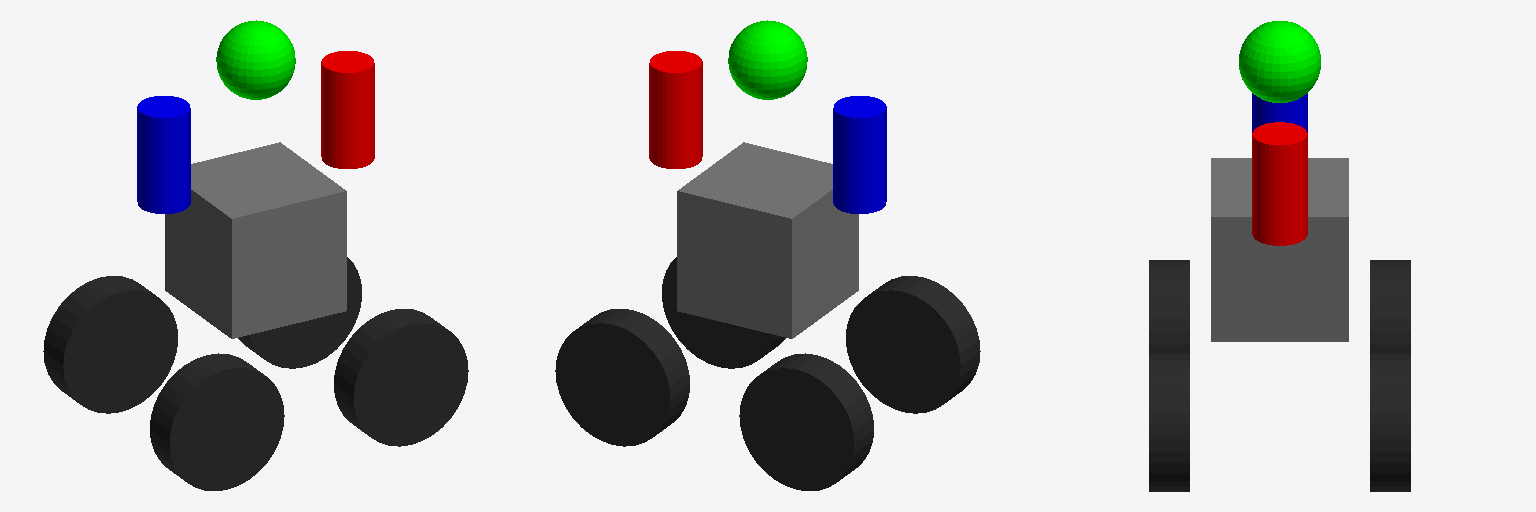
robot.urdf — jedy_robot:
<?xml version='1.0' encoding='UTF-8'?>
<robot name="jedy_robot">
  <link name="base_link">
    <inertial>
      <origin xyz="0 0 0.05" rpy="0 0 0"/>
      <mass value="1.0"/>
      <inertia ixx="0.01" ixy="0.0" ixz="0.0" iyy="0.01" iyz="0.0" izz="0.01"/>
    </inertial>
    <visual>
      <geometry>
        <box size="0.1 0.1 0.1"/>
      </geometry>
      <material name="grey">
        <color rgba="0.5 0.5 0.5 1"/>
      </material>
      <origin xyz="0.0 0.0 0.0" rpy="0 0 0"/>
    </visual>
    <collision>
      <geometry>
        <box size="0.1 0.1 0.1"/>
      </geometry>
      <origin xyz="0.0 0.0 0.0" rpy="0 0 0"/>
    </collision>
  </link>
  
  <link name="rarm_link0">
    <inertial>
      <origin xyz="0 0 0" rpy="0 0 0"/>
      <mass value="0.1"/>
      <inertia ixx="0.001" ixy="0.0" ixz="0.0" iyy="0.001" iyz="0.0" izz="0.001"/>
    </inertial>
    <visual>
      <geometry>
        <cylinder radius="0.02" length="0.08"/>
      </geometry>
      <material name="red">
        <color rgba="1 0 0 1"/>
      </material>
      <origin xyz="0 0 0.04" rpy="0 0 0"/>
    </visual>
    <collision>
      <geometry>
        <cylinder radius="0.02" length="0.08"/>
      </geometry>
      <origin xyz="0 0 0.04" rpy="0 0 0"/>
    </collision>
  </link>
  
  <link name="larm_link0">
    <inertial>
      <origin xyz="0 0 0" rpy="0 0 0"/>
      <mass value="0.1"/>
      <inertia ixx="0.001" ixy="0.0" ixz="0.0" iyy="0.001" iyz="0.0" izz="0.001"/>
    </inertial>
    <visual>
      <geometry>
        <cylinder radius="0.02" length="0.08"/>
      </geometry>
      <material name="blue">
        <color rgba="0 0 1 1"/>
      </material>
      <origin xyz="0 0 0.04" rpy="0 0 0"/>
    </visual>
    <collision>
      <geometry>
        <cylinder radius="0.02" length="0.08"/>
      </geometry>
      <origin xyz="0 0 0.04" rpy="0 0 0"/>
    </collision>
  </link>
  
  <link name="head_link0">
    <inertial>
      <origin xyz="0 0 0" rpy="0 0 0"/>
      <mass value="0.1"/>
      <inertia ixx="0.001" ixy="0.0" ixz="0.0" iyy="0.001" iyz="0.0" izz="0.001"/>
    </inertial>
    <visual>
      <geometry>
        <sphere radius="0.03"/>
      </geometry>
      <material name="green">
        <color rgba="0 1 0 1"/>
      </material>
      <origin xyz="0 0 0" rpy="0 0 0"/>
    </visual>
    <collision>
      <geometry>
        <sphere radius="0.03"/>
      </geometry>
      <origin xyz="0 0 0" rpy="0 0 0"/>
    </collision>
  </link>
  
  <!-- Mechanum wheels -->
  <link name="mechanum_link1">
    <inertial>
      <origin xyz="0 0 0" rpy="0 0 0"/>
      <mass value="0.2"/>
      <inertia ixx="0.001" ixy="0.0" ixz="0.0" iyy="0.001" iyz="0.0" izz="0.001"/>
    </inertial>
    <visual>
      <geometry>
        <cylinder radius="0.05" length="0.03"/>
      </geometry>
      <material name="black">
        <color rgba="0.2 0.2 0.2 1"/>
      </material>
      <origin xyz="0 0 0" rpy="1.5708 0 0"/>
    </visual>
    <collision>
      <geometry>
        <cylinder radius="0.05" length="0.03"/>
      </geometry>
      <origin xyz="0 0 0" rpy="1.5708 0 0"/>
    </collision>
  </link>
  
  <link name="mechanum_link2">
    <inertial>
      <origin xyz="0 0 0" rpy="0 0 0"/>
      <mass value="0.2"/>
      <inertia ixx="0.001" ixy="0.0" ixz="0.0" iyy="0.001" iyz="0.0" izz="0.001"/>
    </inertial>
    <visual>
      <geometry>
        <cylinder radius="0.05" length="0.03"/>
      </geometry>
      <material name="black">
        <color rgba="0.2 0.2 0.2 1"/>
      </material>
      <origin xyz="0 0 0" rpy="1.5708 0 0"/>
    </visual>
    <collision>
      <geometry>
        <cylinder radius="0.05" length="0.03"/>
      </geometry>
      <origin xyz="0 0 0" rpy="1.5708 0 0"/>
    </collision>
  </link>
  
  <link name="mechanum_link3">
    <inertial>
      <origin xyz="0 0 0" rpy="0 0 0"/>
      <mass value="0.2"/>
      <inertia ixx="0.001" ixy="0.0" ixz="0.0" iyy="0.001" iyz="0.0" izz="0.001"/>
    </inertial>
    <visual>
      <geometry>
        <cylinder radius="0.05" length="0.03"/>
      </geometry>
      <material name="black">
        <color rgba="0.2 0.2 0.2 1"/>
      </material>
      <origin xyz="0 0 0" rpy="1.5708 0 0"/>
    </visual>
    <collision>
      <geometry>
        <cylinder radius="0.05" length="0.03"/>
      </geometry>
      <origin xyz="0 0 0" rpy="1.5708 0 0"/>
    </collision>
  </link>
  
  <link name="mechanum_link4">
    <inertial>
      <origin xyz="0 0 0" rpy="0 0 0"/>
      <mass value="0.2"/>
      <inertia ixx="0.001" ixy="0.0" ixz="0.0" iyy="0.001" iyz="0.0" izz="0.001"/>
    </inertial>
    <visual>
      <geometry>
        <cylinder radius="0.05" length="0.03"/>
      </geometry>
      <material name="black">
        <color rgba="0.2 0.2 0.2 1"/>
      </material>
      <origin xyz="0 0 0" rpy="1.5708 0 0"/>
    </visual>
    <collision>
      <geometry>
        <cylinder radius="0.05" length="0.03"/>
      </geometry>
      <origin xyz="0 0 0" rpy="1.5708 0 0"/>
    </collision>
  </link>
  
  <!-- Joints -->
  <joint name="rarm_joint0" type="revolute">
    <limit effort="0.48" velocity="6.55" lower="-2.35" upper="2.35"/>
    <parent link="base_link"/>
    <child link="rarm_link0"/>
    <axis xyz="0 1 0"/>
    <origin xyz="0.08 0 0.05" rpy="0 0 0"/>
  </joint>
  
  <joint name="larm_joint0" type="revolute">
    <limit effort="0.48" velocity="6.55" lower="-2.35" upper="2.35"/>
    <parent link="base_link"/>
    <child link="larm_link0"/>
    <axis xyz="0 -1 0"/>
    <origin xyz="-0.08 0 0.05" rpy="0 0 0"/>
  </joint>
  
  <joint name="head_joint0" type="revolute">
    <limit effort="0.48" velocity="6.55" lower="-2.35" upper="2.35"/>
    <parent link="base_link"/>
    <child link="head_link0"/>
    <axis xyz="0 0 1"/>
    <origin xyz="0 0 0.15" rpy="0 0 0"/>
  </joint>
  
  <!-- Mechanum wheel joints - properly positioned to touch ground -->
  <joint name="mechanum_joint1" type="continuous">
    <limit effort="0.48" velocity="6.55"/>
    <parent link="base_link"/>
    <child link="mechanum_link1"/>
    <axis xyz="0 1 0"/>
    <origin xyz="0.08 0.08 -0.10" rpy="0 0 0"/>
  </joint>
  
  <joint name="mechanum_joint2" type="continuous">
    <limit effort="0.48" velocity="6.55"/>
    <parent link="base_link"/>
    <child link="mechanum_link2"/>
    <axis xyz="0 1 0"/>
    <origin xyz="0.08 -0.08 -0.10" rpy="0 0 0"/>
  </joint>
  
  <joint name="mechanum_joint3" type="continuous">
    <limit effort="0.48" velocity="6.55"/>
    <parent link="base_link"/>
    <child link="mechanum_link3"/>
    <axis xyz="0 1 0"/>
    <origin xyz="-0.08 0.08 -0.10" rpy="0 0 0"/>
  </joint>
  
  <joint name="mechanum_joint4" type="continuous">
    <limit effort="0.48" velocity="6.55"/>
    <parent link="base_link"/>
    <child link="mechanum_link4"/>
    <axis xyz="0 1 0"/>
    <origin xyz="-0.08 -0.08 -0.10" rpy="0 0 0"/>
  </joint>

  <!-- Gazebo plugins -->
  <gazebo>
    <plugin name="gz::sim::systems::JointStatePublisher" filename="libgz-sim-joint-state-publisher-system.so">
      <joint_name>rarm_joint0</joint_name>
      <joint_name>larm_joint0</joint_name>
      <joint_name>head_joint0</joint_name>
      <joint_name>mechanum_joint1</joint_name>
      <joint_name>mechanum_joint2</joint_name>
      <joint_name>mechanum_joint3</joint_name>
      <joint_name>mechanum_joint4</joint_name>
    </plugin>
  </gazebo>
</robot>

--- Facts derived from the render (not from the file) ---
Views: 3 orthographic renders of the robot side by side, from view 1: azimuth 30°, elevation 25°; view 2: azimuth 150°, elevation 25°; view 3: azimuth 270°, elevation 25°.
Model jedy_robot with 8 links and 7 joints (3 revolute, 4 continuous), rooted at base_link, posed all joints at 0.
Visible links, largest first — view 1: base_link, mechanum_link2, mechanum_link3, mechanum_link4, rarm_link0, larm_link0, head_link0, mechanum_link1; view 2: base_link, mechanum_link1, mechanum_link4, mechanum_link3, rarm_link0, larm_link0, head_link0, mechanum_link2; view 3: base_link, rarm_link0, mechanum_link1, mechanum_link2, head_link0, mechanum_link3, mechanum_link4, larm_link0.
Boxes of the visible links, <box> form: base_link: <box>165,142,346,338</box>; mechanum_link2: <box>334,309,468,446</box>; mechanum_link3: <box>43,276,177,413</box>; mechanum_link4: <box>150,353,284,490</box>; rarm_link0: <box>321,51,374,168</box>; larm_link0: <box>137,96,190,213</box>; head_link0: <box>216,20,295,99</box>; mechanum_link1: <box>238,257,361,368</box>; base_link: <box>677,142,858,338</box>; mechanum_link1: <box>555,309,689,446</box>; mechanum_link4: <box>846,276,980,413</box>; mechanum_link3: <box>739,353,873,490</box>; rarm_link0: <box>649,51,702,168</box>; larm_link0: <box>833,96,886,213</box>; head_link0: <box>728,20,807,99</box>; mechanum_link2: <box>662,257,785,368</box>; base_link: <box>1211,158,1348,341</box>; rarm_link0: <box>1252,122,1307,245</box>; mechanum_link1: <box>1370,353,1410,491</box>; mechanum_link2: <box>1149,353,1189,491</box>; head_link0: <box>1239,21,1320,102</box>; mechanum_link3: <box>1370,260,1410,352</box>; mechanum_link4: <box>1149,260,1189,352</box>; larm_link0: <box>1252,93,1307,132</box>.
Bounding box of the posed robot: 0.26 × 0.19 × 0.33 m (x, y, z).
Geometry: primitives only (box / cylinder / sphere), no mesh files.
